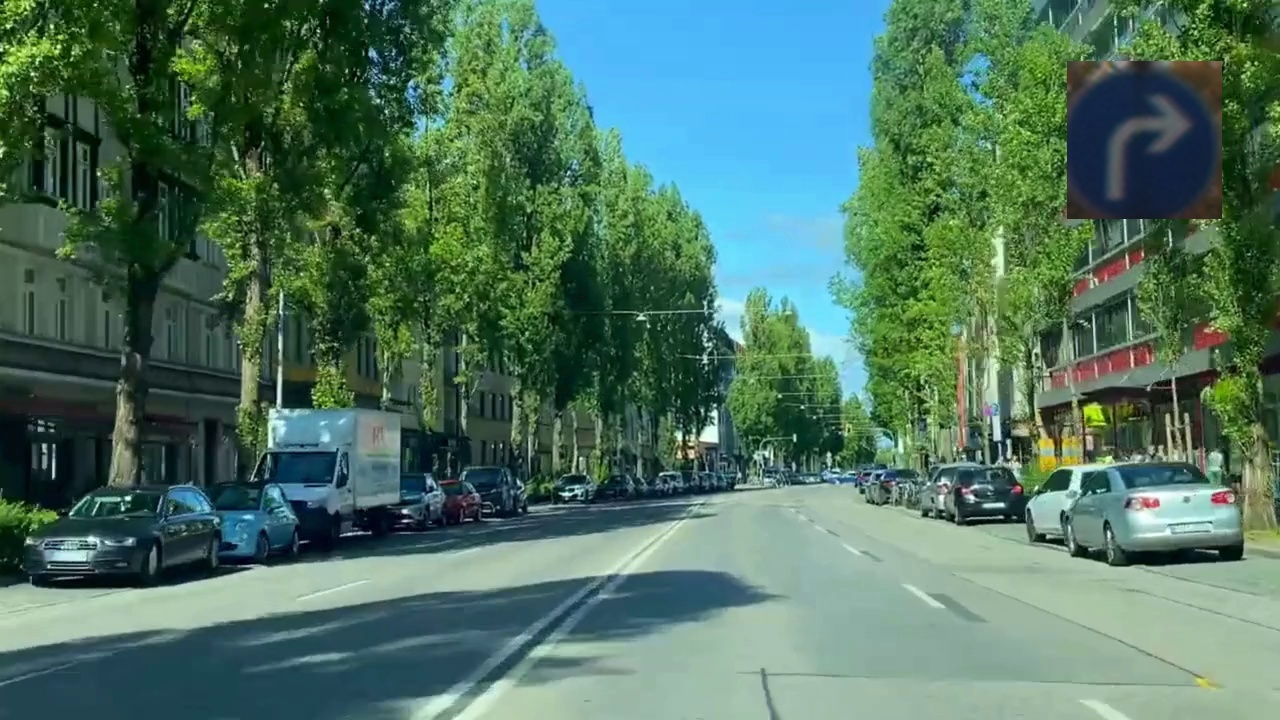Turn right: (1067, 61, 1222, 219)
